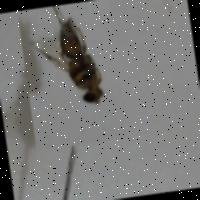Oriental-fruit-fly: (15, 0, 126, 150)
